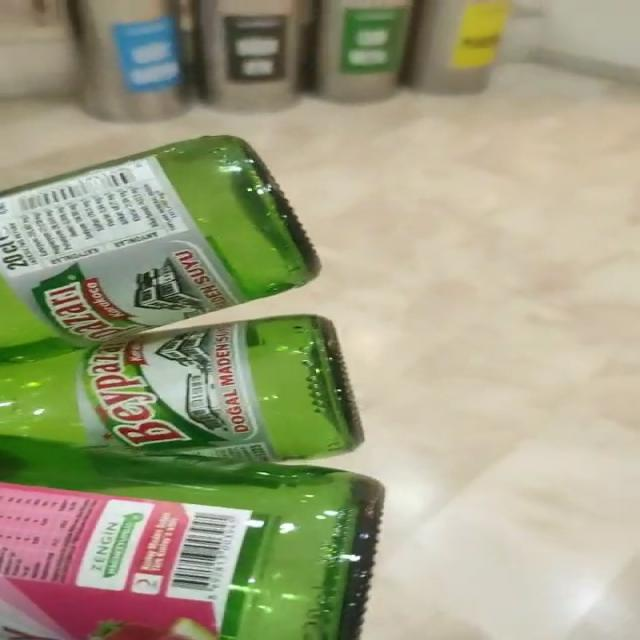glass: (0, 136, 381, 640)
